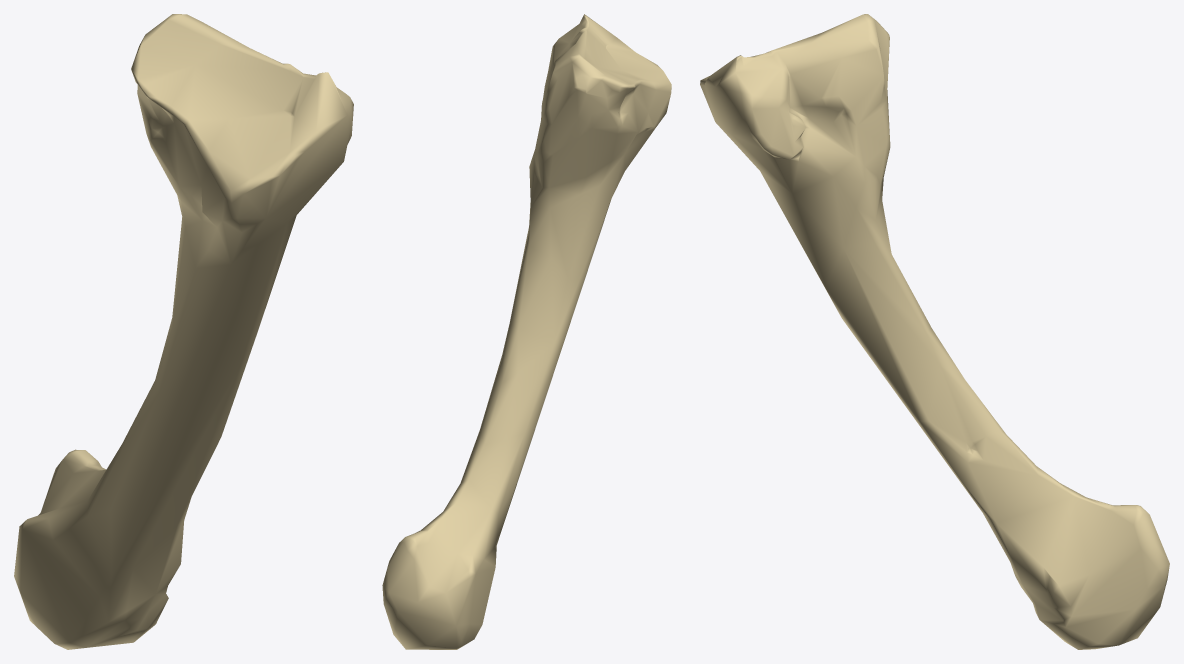
The picture shows the model from 3 angles, left to right: view 1: azimuth 30°, elevation 25°; view 2: azimuth 150°, elevation 25°; view 3: azimuth 270°, elevation 25°; orthographic projection. The views are drawn at different scales.
Parts seen in each view (by area): view 1: 左侧第二跖骨; view 2: 左侧第二跖骨; view 3: 左侧第二跖骨.
Part boxes in pixels (box(x1,y1,x2,y2)): 左侧第二跖骨: box(14, 14, 353, 649); 左侧第二跖骨: box(382, 14, 671, 649); 左侧第二跖骨: box(700, 14, 1169, 649).
Size of the model in its own units: 0.0256 by 0.1038 by 0.0735.
